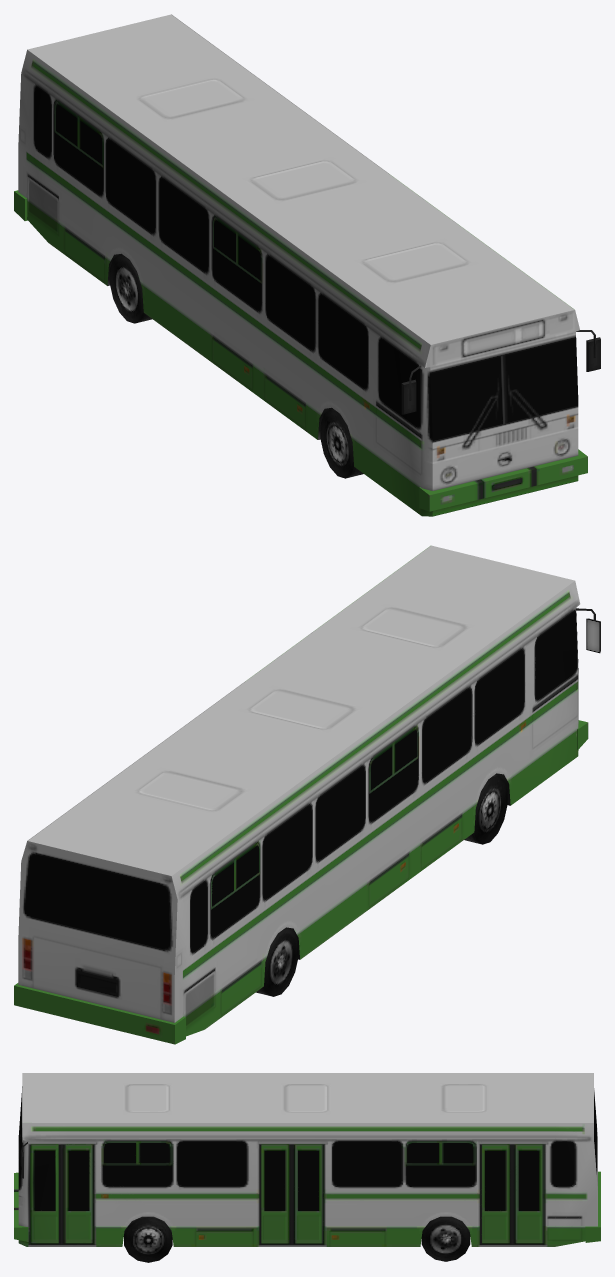
Rendered from 04_liaz_bus.glb.
The picture shows the model from 3 angles, top to bottom: view 1: azimuth 30°, elevation 25°; view 2: azimuth 150°, elevation 25°; view 3: azimuth 270°, elevation 25°; orthographic projection. The views are drawn at different scales.
Parts seen in each view (by area): view 1: BusLP.001_19, bus_fwh.002_17, bus_bwh.003_16; view 2: BusLP.001_19, bus_bwh.003_16, bus_fwh.002_17; view 3: BusLP.001_19, bus_fwh.003_18, bus_bwh.002_15.
Part boxes in pixels (x1=…): BusLP.001_19: x1=14, y1=14, x2=600, y2=516; bus_fwh.002_17: x1=320, y1=409, x2=363, y2=478; bus_bwh.003_16: x1=109, y1=254, x2=152, y2=323; BusLP.001_19: x1=14, y1=545, x2=600, y2=1044; bus_bwh.003_16: x1=256, y1=927, x2=298, y2=996; bus_fwh.002_17: x1=464, y1=775, x2=507, y2=844; BusLP.001_19: x1=14, y1=1073, x2=600, y2=1246; bus_fwh.003_18: x1=124, y1=1216, x2=172, y2=1262; bus_bwh.002_15: x1=421, y1=1216, x2=470, y2=1261.
Size of the model in its own units: 3.95 by 3.74 by 14.36.
Materials: 2 (1 with a texture image).
